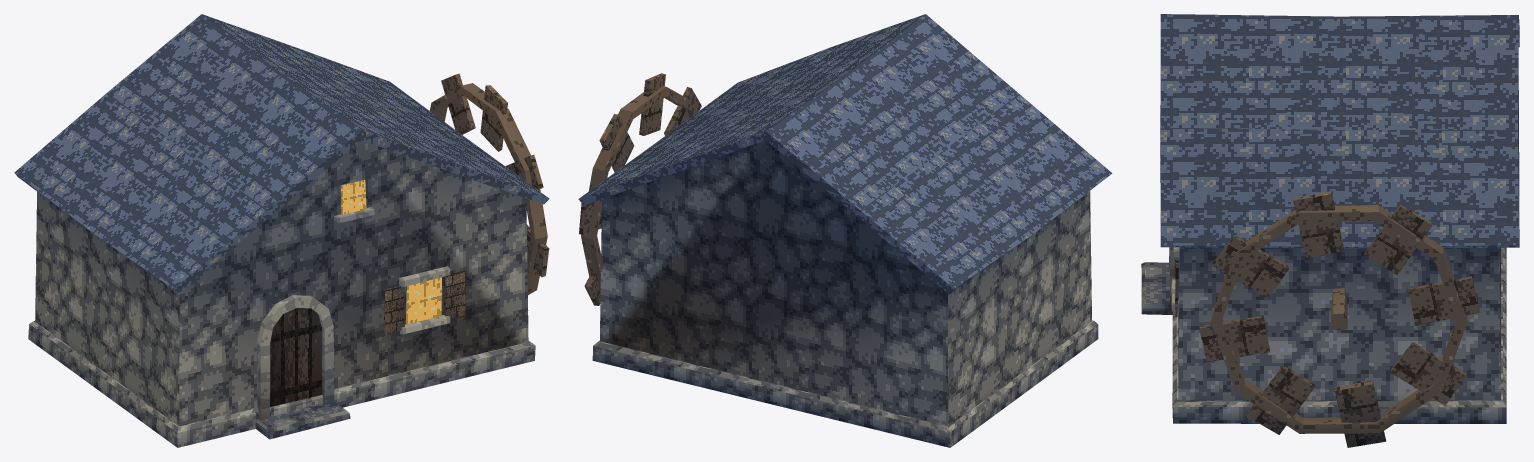
The model's file is vlg.mill__watermill.glb.
3 renders of one model, left to right at view 1: azimuth 30°, elevation 25°; view 2: azimuth 150°, elevation 25°; view 3: azimuth 270°, elevation 25°, orthographic. The views are drawn at different scales.
Parts seen in each view (by area): view 1: kit_walls, kit_roof, kit_fittings, kit_stonework, kit_frame; view 2: kit_walls, kit_roof, kit_stonework, kit_fittings, kit_frame; view 3: kit_roof, kit_walls, kit_fittings, kit_frame, kit_stonework.
Part boxes in pixels (<box>): kit_walls: <box>35,140,528,426</box>; kit_roof: <box>14,14,549,292</box>; kit_fittings: <box>255,73,549,439</box>; kit_stonework: <box>28,321,535,447</box>; kit_frame: <box>429,83,547,294</box>; kit_walls: <box>600,140,1091,426</box>; kit_roof: <box>578,14,1112,294</box>; kit_stonework: <box>592,320,1098,447</box>; kit_fittings: <box>579,73,701,305</box>; kit_frame: <box>581,86,697,290</box>; kit_roof: <box>1160,14,1519,248</box>; kit_walls: <box>1178,247,1500,401</box>; kit_fittings: <box>1141,191,1480,447</box>; kit_frame: <box>1211,205,1467,433</box>; kit_stonework: <box>1172,247,1506,423</box>.
Bounding box in the file's own units: 8.17 × 5.5 × 5.85.
Materials: 8 (8 with a texture image).
